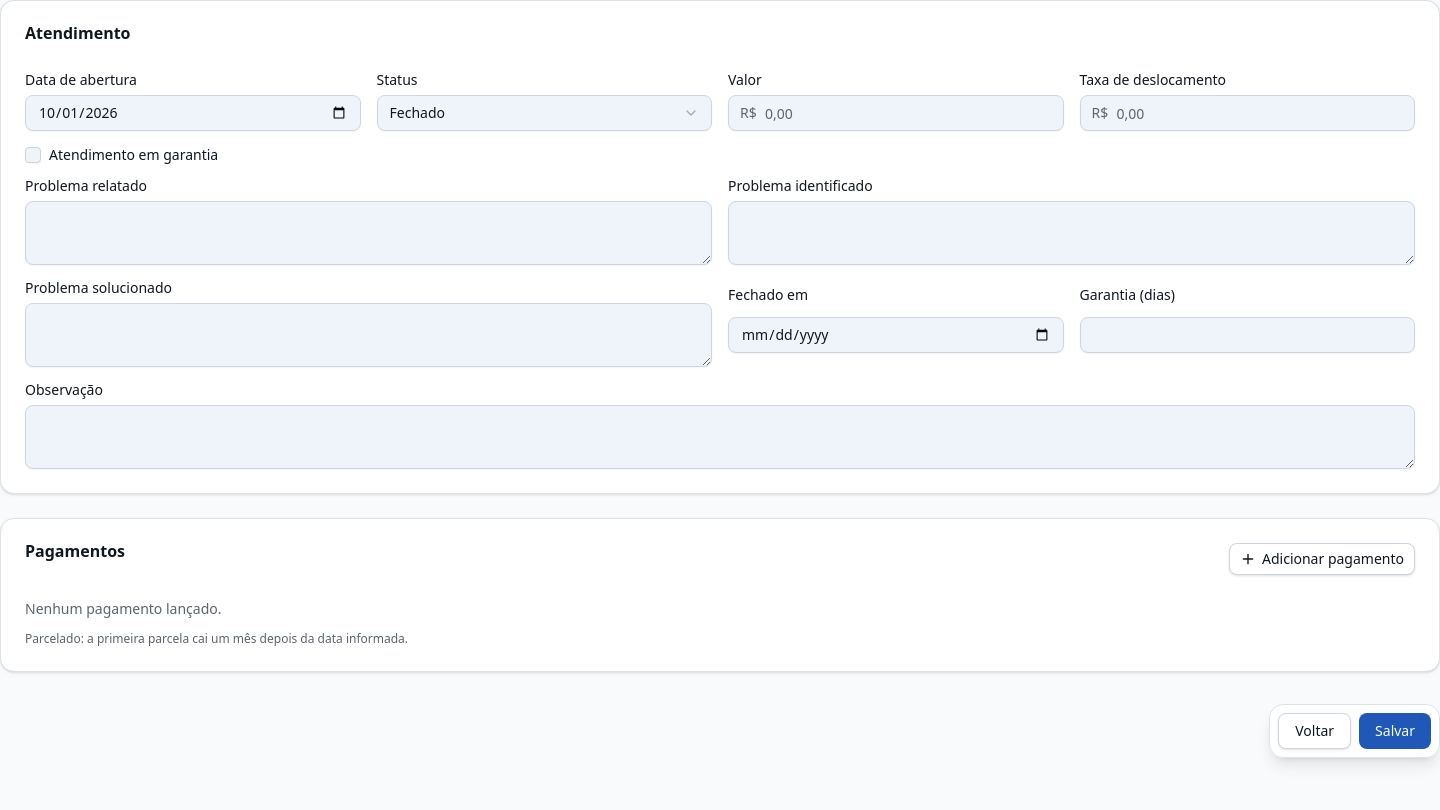
Test: OrdemServicoFormulario: salvar › OS fechada sem data de fechamento não salva (R-OS-02)
What coordinates should you click on to do the following:
click the button "Salvar"
I would click on:
 (1395, 731)
Its box is [1359, 713, 1431, 749].
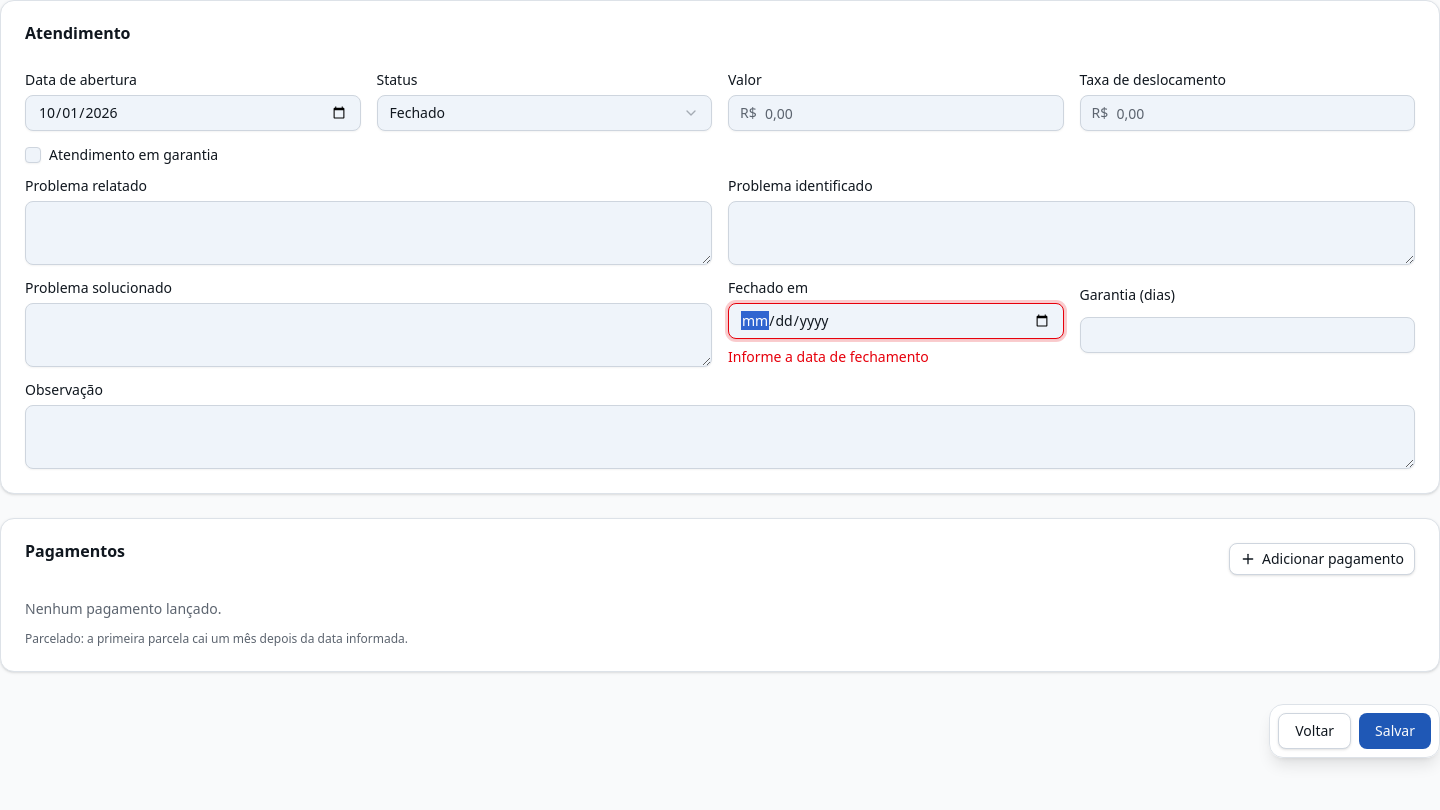
Now the text "Informe a data de fechamento" is shown, box [728, 347, 929, 366]
